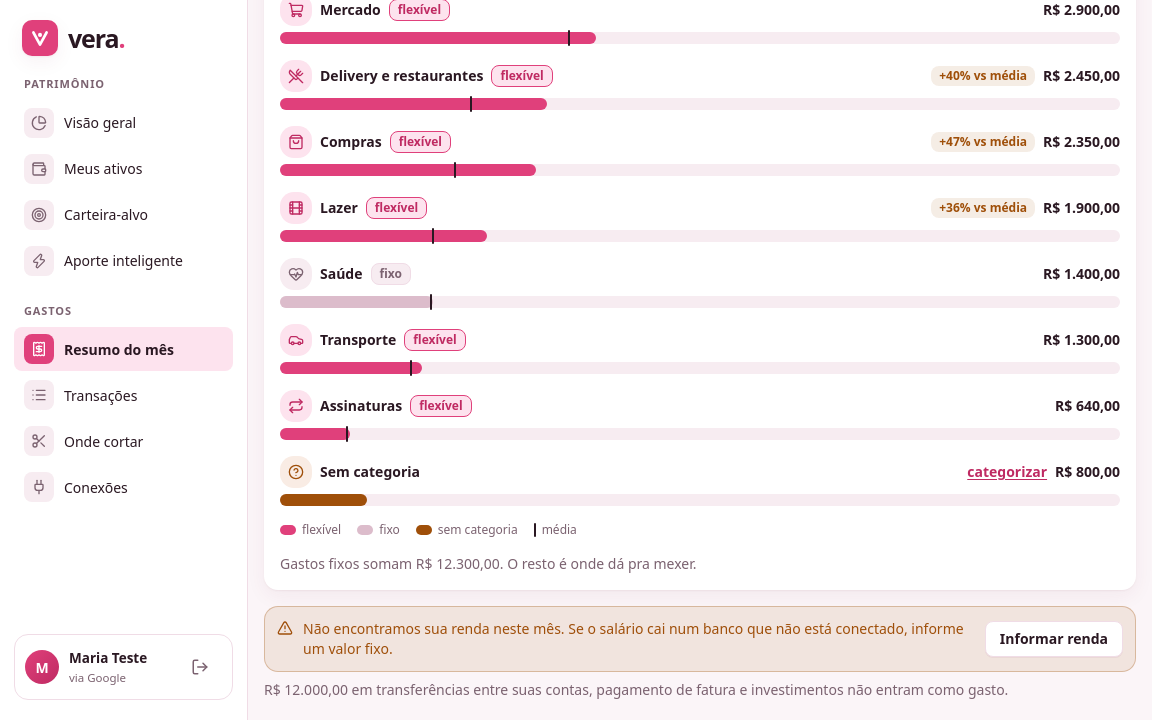
Test: resumo do mês: estados › renda zerada no modo transações mostra o alerta e o botão abre o diálogo
(page scrolled)
Expected: the message shows "Não encontramos sua renda neste mês. Se o salário cai num banco que não está conectado, informe um valor fixo.", [303,619,964,658]
What coordinates should you click on to do the following:
click the button "Informar renda"
I would click on:
 (1054, 639)
Its box is [985,621,1123,657].
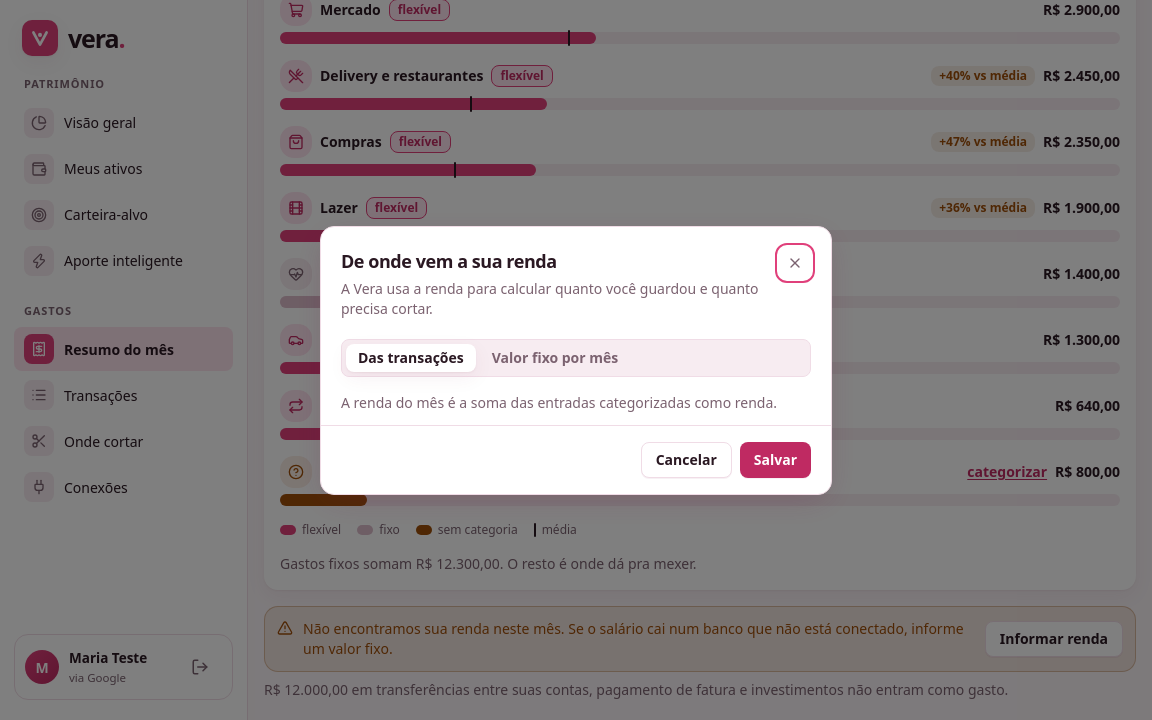
Result: the heading "De onde vem a sua renda" is shown at [341,248,557,272]
